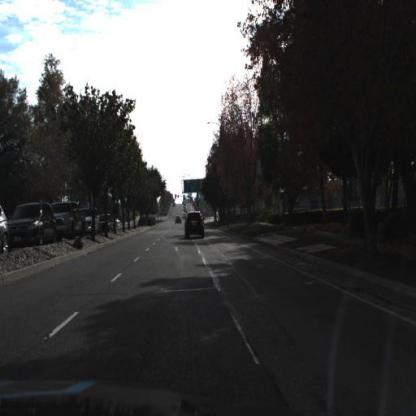car: (8, 203, 59, 250), (57, 202, 86, 243), (185, 211, 205, 239), (86, 208, 102, 235), (101, 216, 112, 234), (176, 215, 182, 226)
